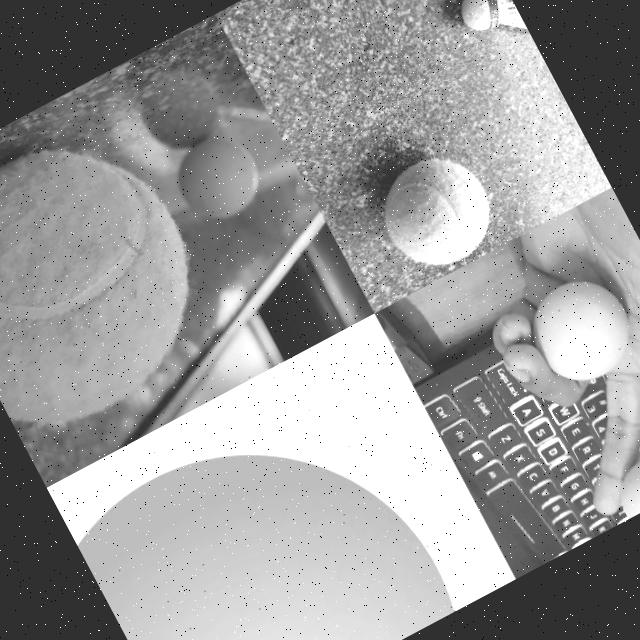ping-pong-ball: (65, 377, 461, 640), (521, 266, 640, 395), (164, 124, 274, 232), (608, 443, 640, 518)
